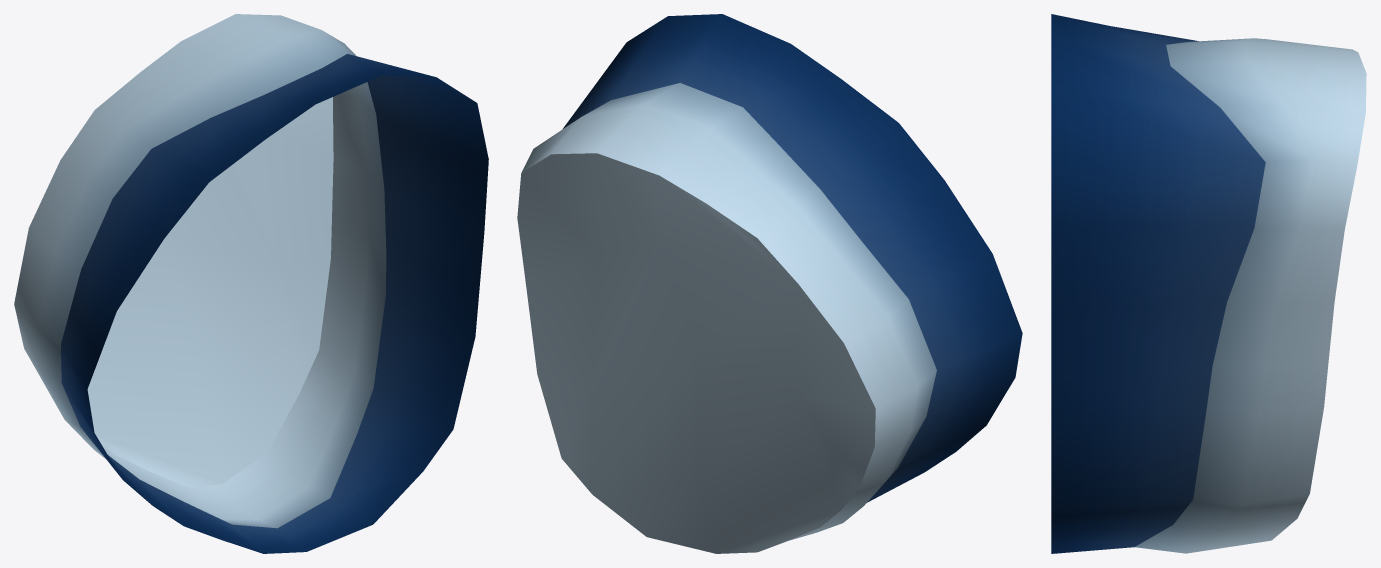
File: Snow Rock 01.FBX
3 views of the same model, side by side, from view 1: azimuth 30°, elevation 25°; view 2: azimuth 150°, elevation 25°; view 3: azimuth 270°, elevation 25° (orthographic). The views are drawn at different scales.
Parts seen in each view (by area): view 1: Snow Rock 01; view 2: Snow Rock 01; view 3: Snow Rock 01.
Boxes of the visible parts, left/top/right/bottom form: Snow Rock 01: left=14, top=14, right=488, bottom=553; Snow Rock 01: left=517, top=14, right=1022, bottom=553; Snow Rock 01: left=1051, top=14, right=1366, bottom=553.
Bounding box in the file's own units: 699 × 768 × 408.
Materials: 1 (1 with a texture image).
